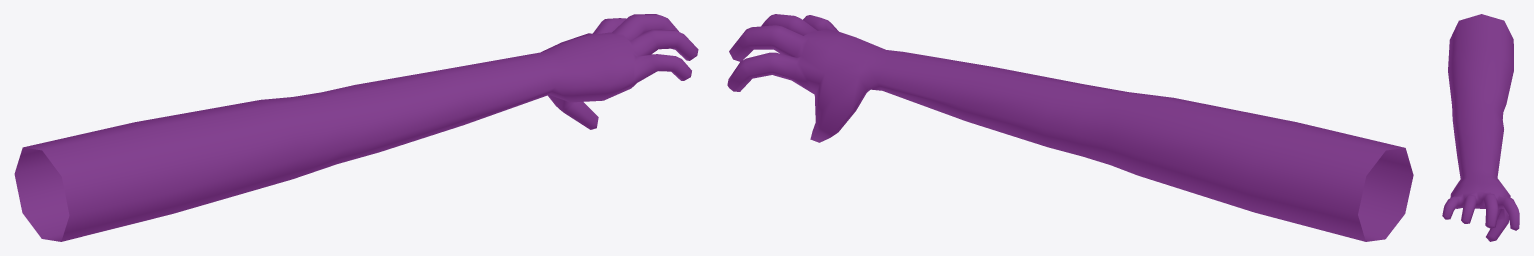
The model's file is claw_arm.glb.
3 views of the same model, side by side, from view 1: azimuth 30°, elevation 25°; view 2: azimuth 150°, elevation 25°; view 3: azimuth 270°, elevation 25° (orthographic). The views are drawn at different scales.
Parts seen in each view (by area): view 1: Arm; view 2: Arm; view 3: Arm.
Boxes of the visible parts, box(x1,y1,x2,y2) form: Arm: box(14, 14, 698, 241); Arm: box(727, 14, 1413, 241); Arm: box(1442, 14, 1519, 241).
Bounding box in the file's own units: 2.6 × 0.4633 × 0.466.
